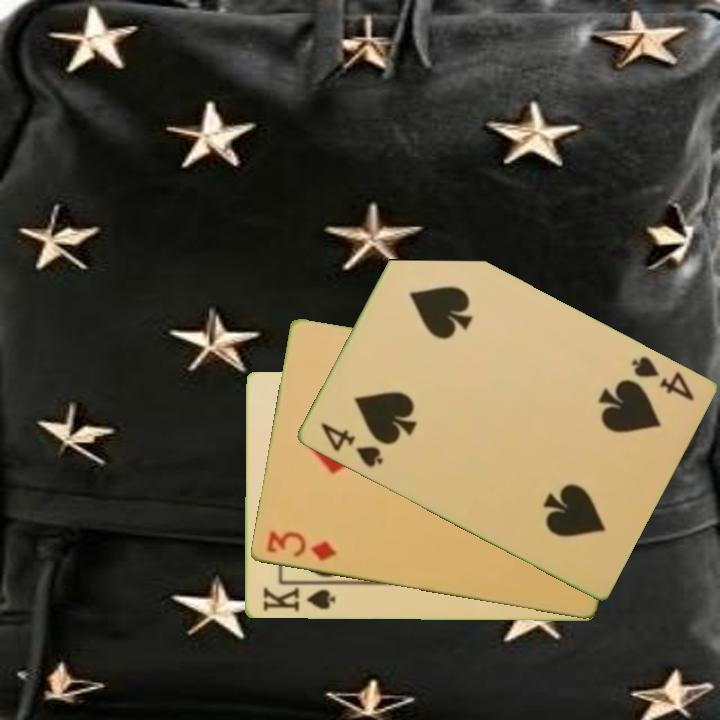3d: (262, 528, 339, 564)
4s: (316, 419, 386, 471), (626, 353, 697, 404)
Ks: (259, 581, 337, 615)
